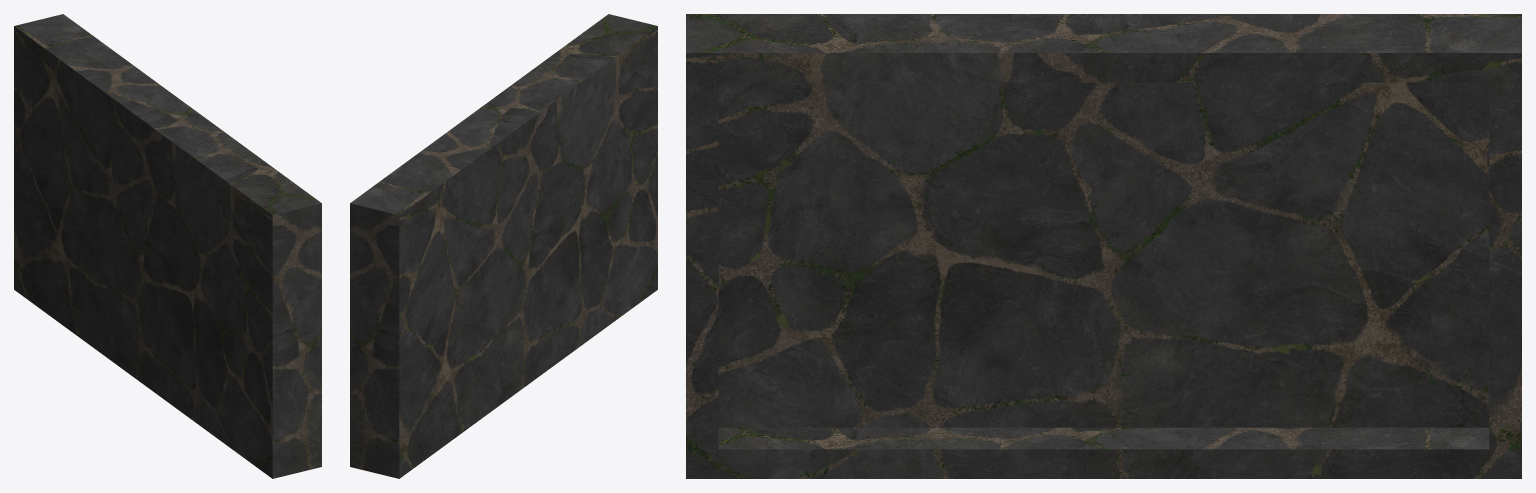
The model's file is frame.glb.
3 views of the same model, side by side, from view 1: azimuth 30°, elevation 25°; view 2: azimuth 150°, elevation 25°; view 3: azimuth 270°, elevation 25° (orthographic). The views are drawn at different scales.
Parts seen in each view (by area): view 1: 立方体; view 2: 立方体; view 3: 立方体.
Part boxes in pixels (box(x1,y1,x2,y2)): 立方体: box(14, 14, 321, 478); 立方体: box(350, 14, 657, 478); 立方体: box(686, 14, 1521, 478).
Size of the model in its own units: 3.52 by 18 by 32.
1 material, 1 textured.
